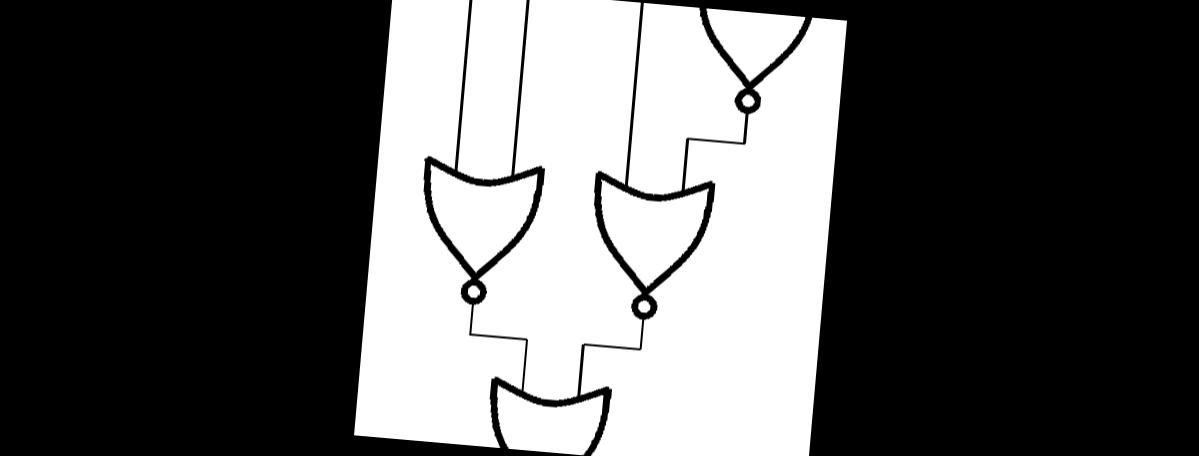nor: (403, 144, 553, 321), (572, 160, 722, 333), (674, 7, 822, 134), (476, 368, 616, 456)
